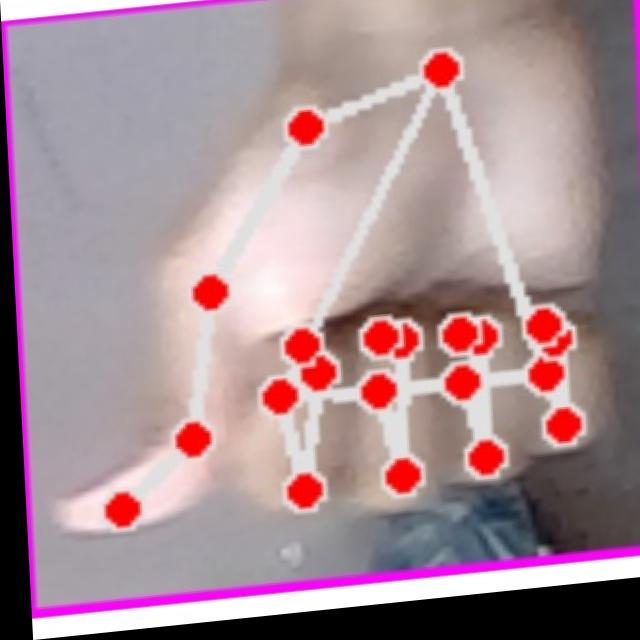A: (34, 25, 614, 585)
